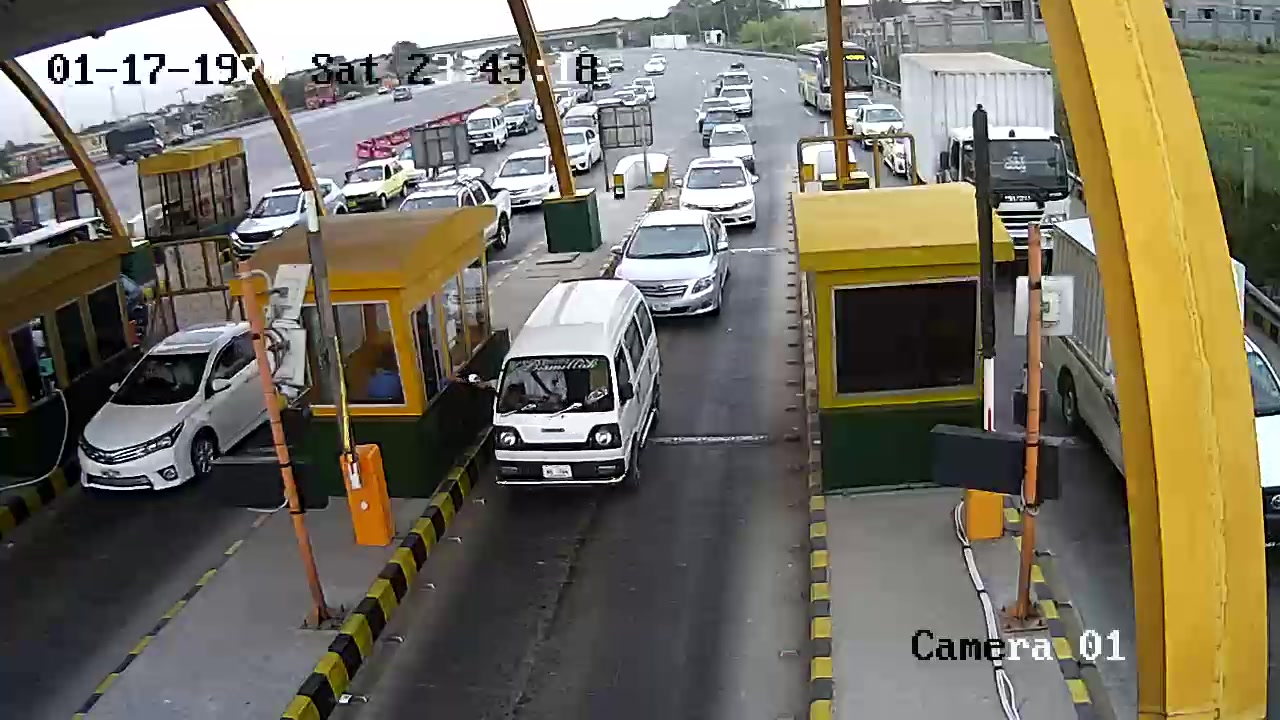F1: (488, 263, 671, 507)
